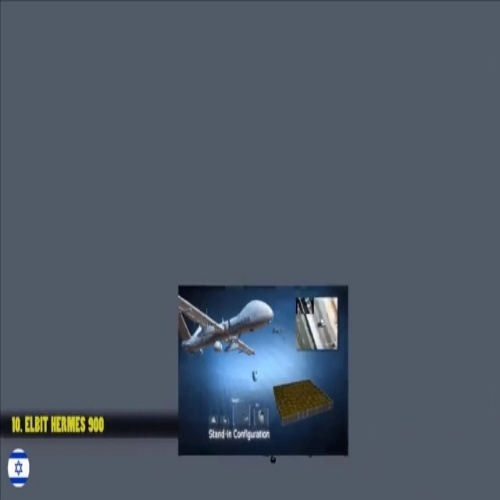uav761: (176, 293, 277, 357)
